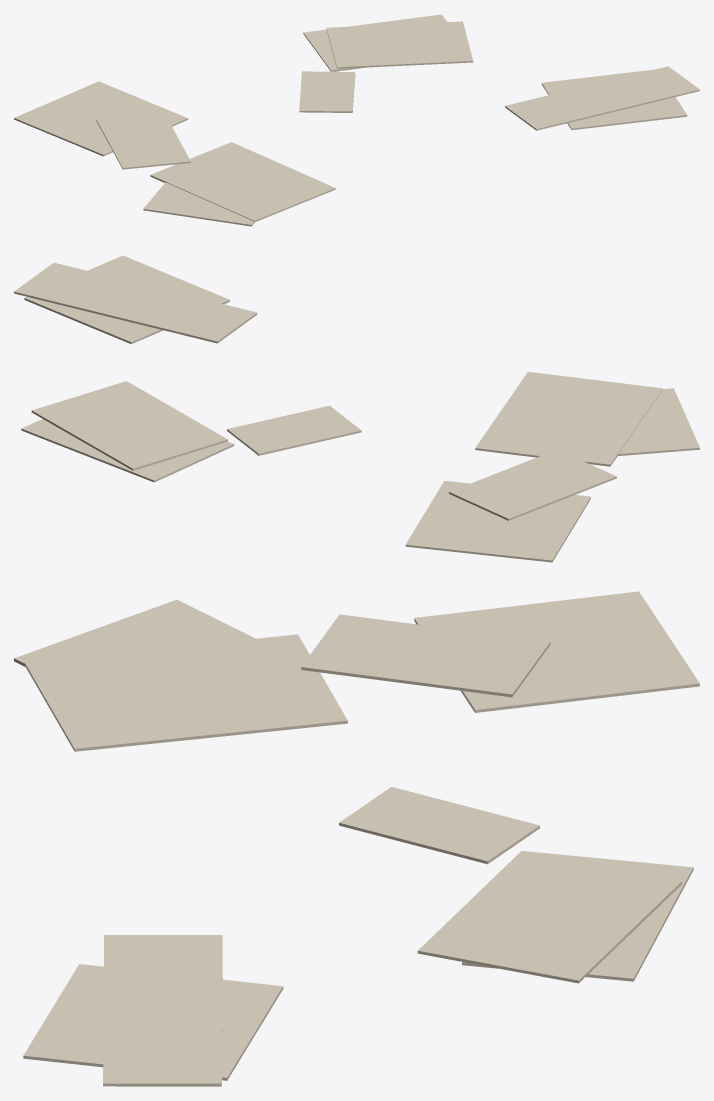
3 views of the same model, one above another, from view 1: azimuth 30°, elevation 25°; view 2: azimuth 150°, elevation 25°; view 3: azimuth 270°, elevation 25° (orthographic). The views are drawn at different scales.
Visible parts, largest first — view 1: TH-012__001__Scattered single page, TH-012__008__Scattered single page, TH-012__005__Scattered single page, TH-012__003__Scattered single page, TH-012__006__Scattered single page, TH-012__002__Scattered single page, TH-012__007__Scattered single page, TH-012__000__Scattered single page, TH-012__004__Scattered single page; view 2: TH-012__001__Scattered single page, TH-012__008__Scattered single page, TH-012__005__Scattered single page, TH-012__003__Scattered single page, TH-012__006__Scattered single page, TH-012__002__Scattered single page, TH-012__007__Scattered single page, TH-012__000__Scattered single page, TH-012__004__Scattered single page; view 3: TH-012__001__Scattered single page, TH-012__008__Scattered single page, TH-012__005__Scattered single page, TH-012__003__Scattered single page, TH-012__006__Scattered single page, TH-012__002__Scattered single page, TH-012__007__Scattered single page, TH-012__000__Scattered single page, TH-012__004__Scattered single page.
Boxes of the visible parts, x1,y1,x2,y2 form: TH-012__001__Scattered single page: [150, 142, 335, 221]; TH-012__008__Scattered single page: [326, 21, 473, 68]; TH-012__005__Scattered single page: [505, 66, 699, 130]; TH-012__003__Scattered single page: [14, 81, 188, 156]; TH-012__006__Scattered single page: [96, 112, 190, 169]; TH-012__002__Scattered single page: [541, 69, 687, 130]; TH-012__007__Scattered single page: [299, 71, 355, 112]; TH-012__000__Scattered single page: [143, 182, 254, 226]; TH-012__004__Scattered single page: [303, 14, 446, 71]; TH-012__001__Scattered single page: [475, 371, 662, 466]; TH-012__008__Scattered single page: [31, 381, 227, 470]; TH-012__005__Scattered single page: [14, 262, 257, 343]; TH-012__003__Scattered single page: [405, 480, 590, 562]; TH-012__006__Scattered single page: [449, 449, 616, 520]; TH-012__002__Scattered single page: [24, 255, 229, 344]; TH-012__007__Scattered single page: [227, 405, 361, 455]; TH-012__000__Scattered single page: [618, 388, 699, 455]; TH-012__004__Scattered single page: [21, 419, 234, 482]; TH-012__001__Scattered single page: [24, 634, 347, 751]; TH-012__008__Scattered single page: [417, 851, 681, 983]; TH-012__005__Scattered single page: [103, 935, 222, 1086]; TH-012__003__Scattered single page: [414, 591, 699, 712]; TH-012__006__Scattered single page: [301, 614, 550, 697]; TH-012__002__Scattered single page: [23, 964, 283, 1080]; TH-012__007__Scattered single page: [339, 787, 539, 864]; TH-012__000__Scattered single page: [14, 599, 255, 666]; TH-012__004__Scattered single page: [462, 851, 693, 981].
Size of the model in its own units: 0.7246 by 0.0076 by 0.4249.
